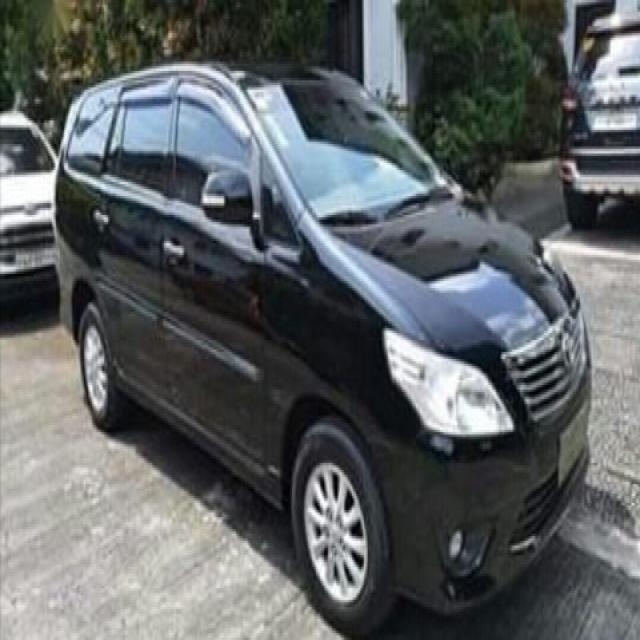light_vehicle: (52, 57, 593, 626)
